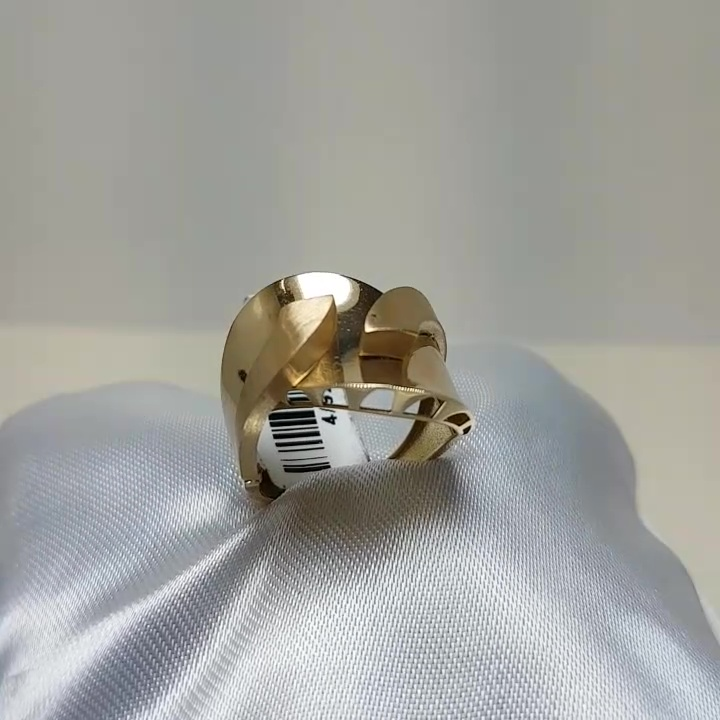Ring 4: (199, 243, 482, 542)
